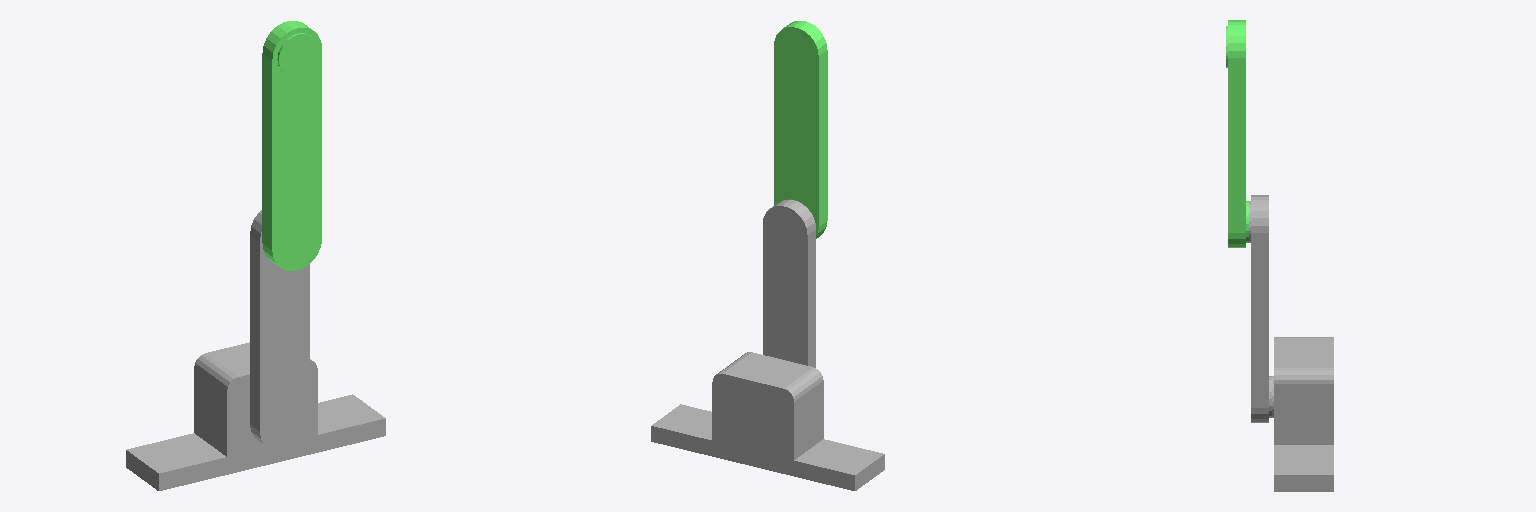
URDF robot description (acrobot):
<?xml version="1.0" encoding="utf-8"?>
<robot name="acrobot">
  
  <!-- Base Link -->
  <link name="base_link">
    <inertial>
      <origin xyz="2.06705220655304E-18 0.0326642091616594 0.000122090101760878" rpy="0 0 0" />
      <mass value="0.409778207134298" />
      <inertia ixx="0.000328708745423522" ixy="3.34910128683046E-20" ixz="-1.77759437422049E-21" iyy="0.00072201047906236" iyz="-3.67008610700569E-07" izz="0.000878189446080419" />
    </inertial>
    <visual>
      <origin xyz="0 0 0" rpy="0 0 0" />
      <geometry>
        <mesh filename="./acrobot/meshes/base_link.STL" />
      </geometry>
      <material name="">
        <color rgba="0.752941176470588 0.752941176470588 0.752941176470588 1" />
      </material>
    </visual>
    <collision>
      <origin xyz="0 0 0" rpy="0 0 0" />
      <geometry>
        <mesh filename="./acrobot/meshes/base_link.STL" />
      </geometry>
    </collision>
  </link>

  <!-- Joint: Base -> Shoulder (Fixed Pole) -->
  <!-- Renamed 'base_to_fixed' to 'shoulder_joint' to match config -->
  <joint name="shoulder_joint" type="revolute">
    <origin xyz="0 -0.027 0.04" rpy="1.5708 0 0" />
    <parent link="base_link" />
    <child link="fixed_pole" />
    <axis xyz="0 0 1" />
    <dynamics damping="0.005" friction="0.01"/>
    
    <!-- Motor with wires: limited to +/- 1 turn -->
    <limit lower="-6.2831853" upper="6.2831853" effort="1.0" velocity="50.0" />
  </joint>

  <!-- Link: Shoulder (Fixed Pole) -->
  <link name="fixed_pole">
    <inertial>
      <origin xyz="-3.15391603256759E-17 0.08 0.00949999999999999" rpy="0 0 0" />
      <mass value="0.070" />   <!--70g的重量 -->
      <inertia ixx="0.000435696040674517" ixy="-6.89273060828187E-21" ixz="-3.73011874390342E-22" iyy="2.27781932139765E-05" iyz="-2.6169466804403E-06" izz="0.000453100268484959" />
    </inertial>
    <visual>
      <origin xyz="0 0 0" rpy="0 0 0" />
      <geometry>
        <mesh filename="./acrobot/meshes/fixed_pole.STL" />
      </geometry>
      <material name="">
        <color rgba="0.752941176470588 0.752941176470588 0.752941176470588 1" />
      </material>
    </visual>
    <collision>
      <origin xyz="0 0 0" rpy="0 0 0" />
      <geometry>
        <mesh filename="./acrobot/meshes/fixed_pole.STL" />
      </geometry>
    </collision>
  </link>

  <!-- Joint: Shoulder -> Elbow (Flex 1 Pole) -->
  <!-- Renamed 'fixed_to_flex_1' to 'elbow_joint' to match config -->
  <joint name="elbow_joint" type="continuous">
    <origin xyz="0 0.16 0.019" rpy="0 0 0" />
    <parent link="fixed_pole" />
    <child link="flex_1_pole" />
    <axis xyz="0 0 1" />
    <!-- Ultra Low Friction Bearing: nearly ideal -->
    <!-- damping=0.0001, friction=0.0 -->
    <dynamics damping="0.0001" friction="0.0"/>
    
    <!-- No limit for bearing joint -->
    <!-- <limit lower="-6.2831853" upper="6.2831853" effort="5.0" velocity="50.0" /> -->
  </joint>

  <!-- Link: Elbow (Flex 1 Pole) -->
  <link name="flex_1_pole">
    <inertial>
      <origin xyz="-1.38777878078145E-17 0.0800000000000002 0.0095" rpy="0 0 0" />
      <mass value="0.070" />   <!--70g的重量 -->
      <inertia ixx="0.000435696040674517" ixy="-4.94455482959698E-21" ixz="-2.5410988417629E-22" iyy="2.27781932139765E-05" iyz="-2.6169466804403E-06" izz="0.000453100268484959" />
    </inertial>
    <visual>
      <origin xyz="0 0 0" rpy="0 0 0" />
      <geometry>
        <mesh filename="./acrobot/meshes/flex_1_pole.STL" />
      </geometry>
      <material name="">
        <color rgba="0.501960784313725 1 0.501960784313725 1" />
      </material>
    </visual>
    <collision>
      <origin xyz="0 0 0" rpy="0 0 0" />
      <geometry>
        <mesh filename="./acrobot/meshes/flex_1_pole.STL" />
      </geometry>
    </collision>
  </link>

</robot>

--- Facts derived from the render (not from the file) ---
Views: 3 orthographic renders of the robot side by side, from view 1: azimuth 30°, elevation 25°; view 2: azimuth 150°, elevation 25°; view 3: azimuth 270°, elevation 25°.
Robot: acrobot — 3 links, 2 joints (1 revolute, 1 continuous); root link base_link; default pose: all joints at 0.
Visible links, largest first — view 1: base_link, flex_1_pole, fixed_pole; view 2: base_link, flex_1_pole, fixed_pole; view 3: base_link, fixed_pole, flex_1_pole.
Boxes of the visible links, <box> form: base_link: <box>126,342,385,490</box>; flex_1_pole: <box>262,21,321,270</box>; fixed_pole: <box>250,210,309,451</box>; base_link: <box>651,352,884,490</box>; flex_1_pole: <box>774,21,827,238</box>; fixed_pole: <box>763,199,815,367</box>; base_link: <box>1272,337,1333,491</box>; fixed_pole: <box>1249,195,1271,422</box>; flex_1_pole: <box>1226,20,1248,247</box>.
Size in the robot's own frame: 0.2 by 0.09 by 0.3818 metres.
Meshes: 3 distinct files referenced, 3 mesh visuals loaded (3 binary STL).
